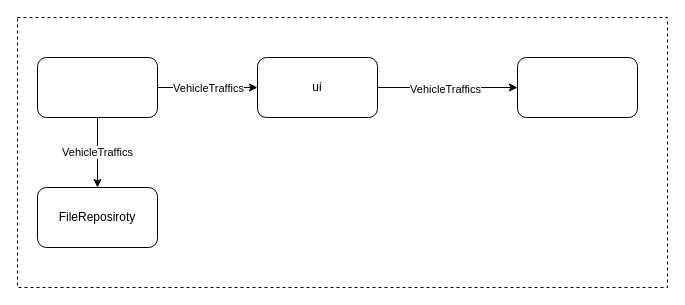
Some shapes in this 685 by 305 pixel diagram are drawn without their labels. Each missing label, with the centre of its shape:
"App" goes at (97,87).
"ReportGenerator" goes at (577,87).
